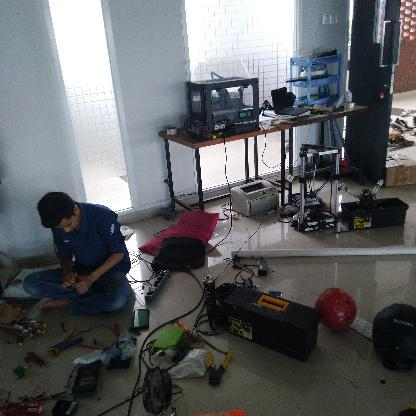red_buoy: (314, 284, 358, 334)
